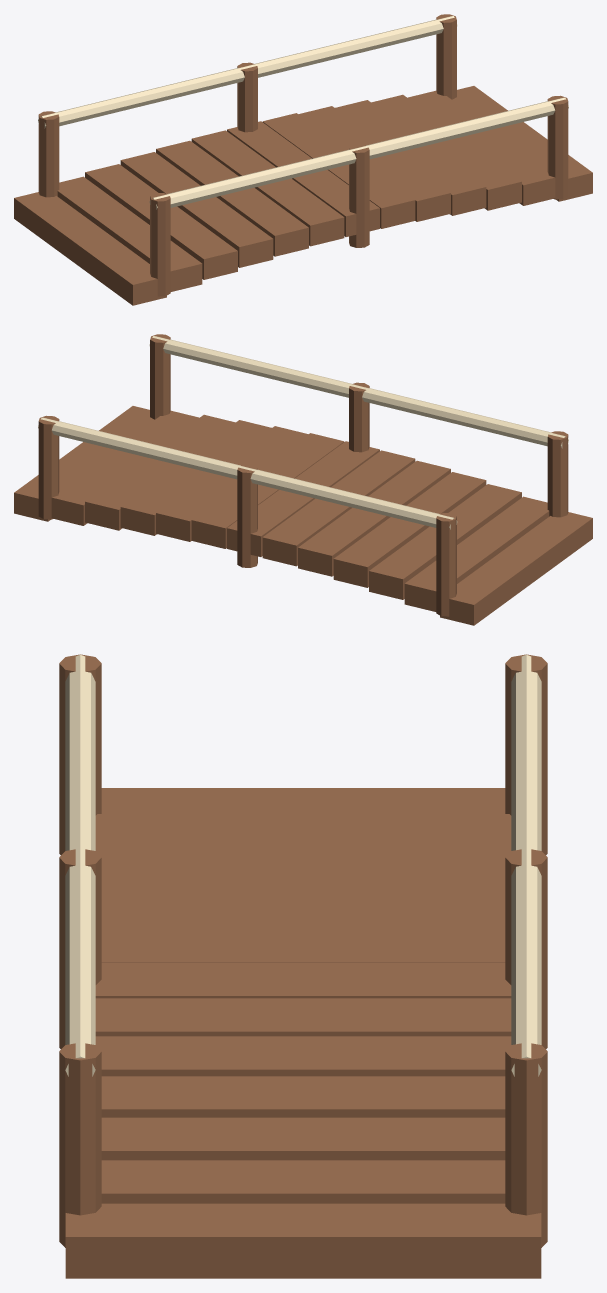
File: Bridge.fbx
3 views of the same model, one above another, from view 1: azimuth 30°, elevation 25°; view 2: azimuth 150°, elevation 25°; view 3: azimuth 270°, elevation 25° (orthographic). The views are drawn at different scales.
Visible parts, largest first — view 1: Bridge plank, Handrail, Handrail.001, Bridge plank.003, Bridge plank.004, Bridge plank.002, Bridge plank.005, Bridge plank.001, Bridge plank.008, Bridge plank.009, Bridge plank.010, Bridge plank.011 (+9 smaller); view 2: Bridge plank, Handrail.001, Handrail, Bridge plank.003, Bridge plank.004, Bridge plank.002, Bridge plank.005, Bridge plank.001, Bridge plank.008, Bridge plank.009, Bridge plank.010, Bridge plank.011 (+9 smaller); view 3: Bridge plank.012, Bridge plank.011, Bridge plank.010, Bridge plank.009, Bridge plank.008, Bridge plank.007, Bridge plank.006, Bridge plank.005, Bridge plank.004, Bridge plank.003, Bridge plank.002, Handrail (+9 smaller).
Part boxes in pixels (box(x1,y1,x2,y2)): Bridge plank: box(14, 192, 166, 305); Handrail: box(149, 97, 568, 209); Handrail.001: box(38, 16, 457, 128); Bridge plank.003: box(120, 152, 273, 267); Bridge plank.004: box(156, 140, 308, 256); Bridge plank.002: box(85, 164, 237, 279); Bridge plank.005: box(191, 130, 344, 246); Bridge plank.001: box(57, 176, 202, 291); Bridge plank.008: box(298, 106, 450, 221); Bridge plank.009: box(335, 100, 486, 215); Bridge plank.010: box(371, 94, 521, 210); Bridge plank.011: box(407, 90, 555, 205); Bridge plank: box(440, 512, 592, 625); Handrail.001: box(38, 417, 457, 529); Handrail: box(149, 336, 568, 448); Bridge plank.003: box(333, 472, 486, 587); Bridge plank.004: box(298, 460, 450, 576); Bridge plank.002: box(369, 484, 521, 599); Bridge plank.005: box(262, 450, 415, 566); Bridge plank.001: box(404, 496, 549, 611); Bridge plank.008: box(156, 426, 308, 541); Bridge plank.009: box(120, 420, 271, 535); Bridge plank.010: box(85, 414, 235, 530); Bridge plank.011: box(51, 410, 199, 525); Bridge plank.012: box(65, 1203, 541, 1278); Bridge plank.011: box(101, 1160, 505, 1203); Bridge plank.010: box(101, 1117, 505, 1160); Bridge plank.009: box(101, 1076, 505, 1117); Bridge plank.008: box(95, 1036, 511, 1076); Bridge plank.007: box(95, 998, 511, 1036); Bridge plank.006: box(95, 962, 511, 998); Bridge plank.005: box(101, 929, 505, 962); Bridge plank.004: box(101, 897, 505, 928); Bridge plank.003: box(101, 868, 505, 897); Bridge plank.002: box(95, 840, 511, 868); Handrail: box(65, 654, 95, 1076).
Size of the model in its own units: 324 by 66.75 by 149.
